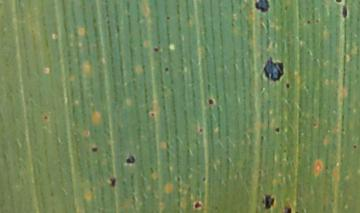tarspot: (263, 57, 284, 82), (261, 194, 275, 210), (255, 1, 270, 12), (341, 3, 348, 19), (192, 199, 202, 209), (125, 155, 136, 164), (108, 176, 116, 188), (152, 44, 159, 53), (256, 167, 263, 176), (164, 14, 172, 21), (207, 97, 214, 105), (273, 126, 280, 134), (200, 175, 207, 182), (176, 175, 182, 183), (315, 16, 321, 24), (149, 111, 155, 118), (163, 65, 169, 72), (286, 206, 292, 213), (285, 82, 291, 89), (90, 147, 98, 152), (42, 114, 48, 120), (306, 18, 311, 25), (352, 143, 357, 150), (198, 127, 203, 133), (335, 1, 343, 3)
